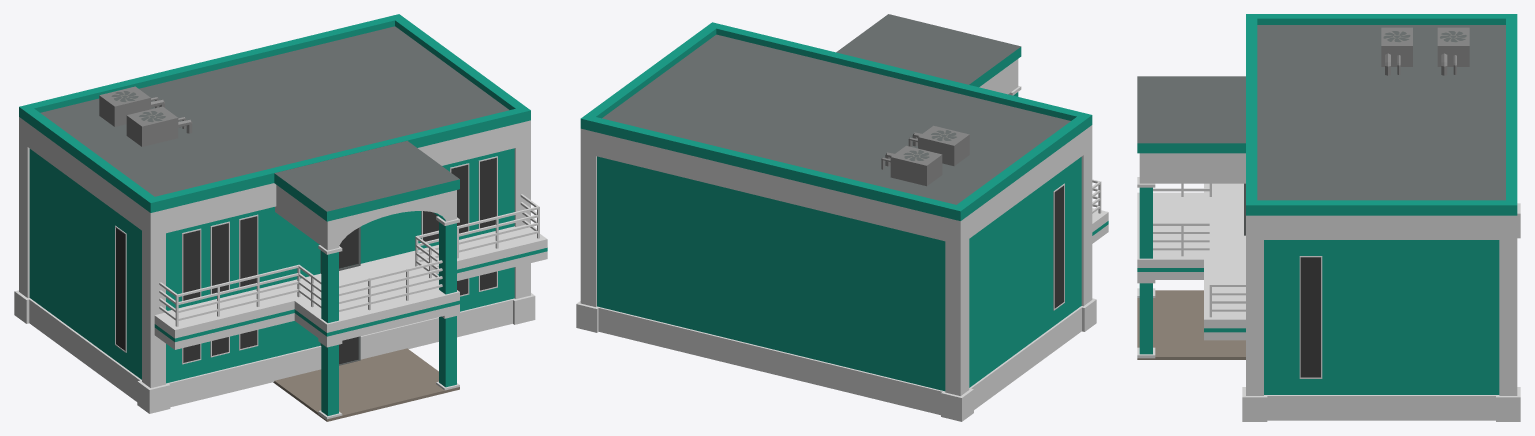
The model's file is building-house-03-color01.glb.
3 views of the same model, side by side, from view 1: azimuth 30°, elevation 25°; view 2: azimuth 150°, elevation 25°; view 3: azimuth 270°, elevation 25° (orthographic). The views are drawn at different scales.
Parts seen in each view (by area): view 1: model; view 2: model; view 3: model.
Part boxes in pixels (x1,y1,x2,y2): model: [14, 14, 547, 421]; model: [576, 14, 1108, 421]; model: [1137, 14, 1520, 421].
Size of the model in its own units: 17.26 by 9.61 by 14.41.
1 material, 1 textured.
